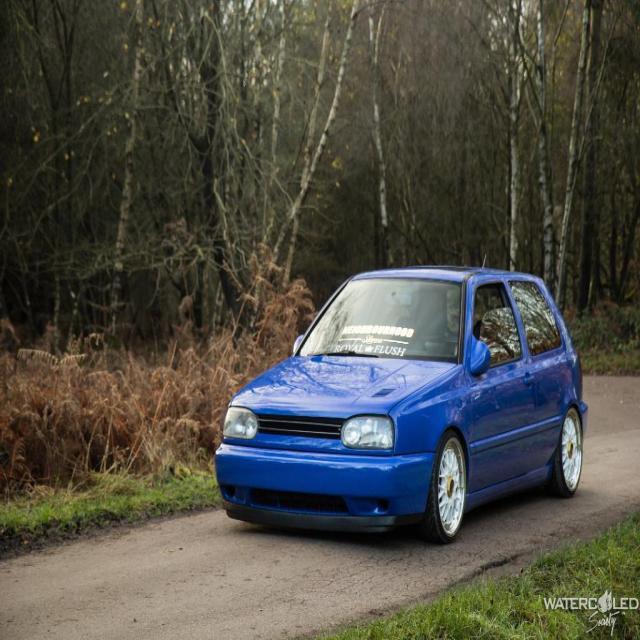car: (212, 266, 592, 548)
